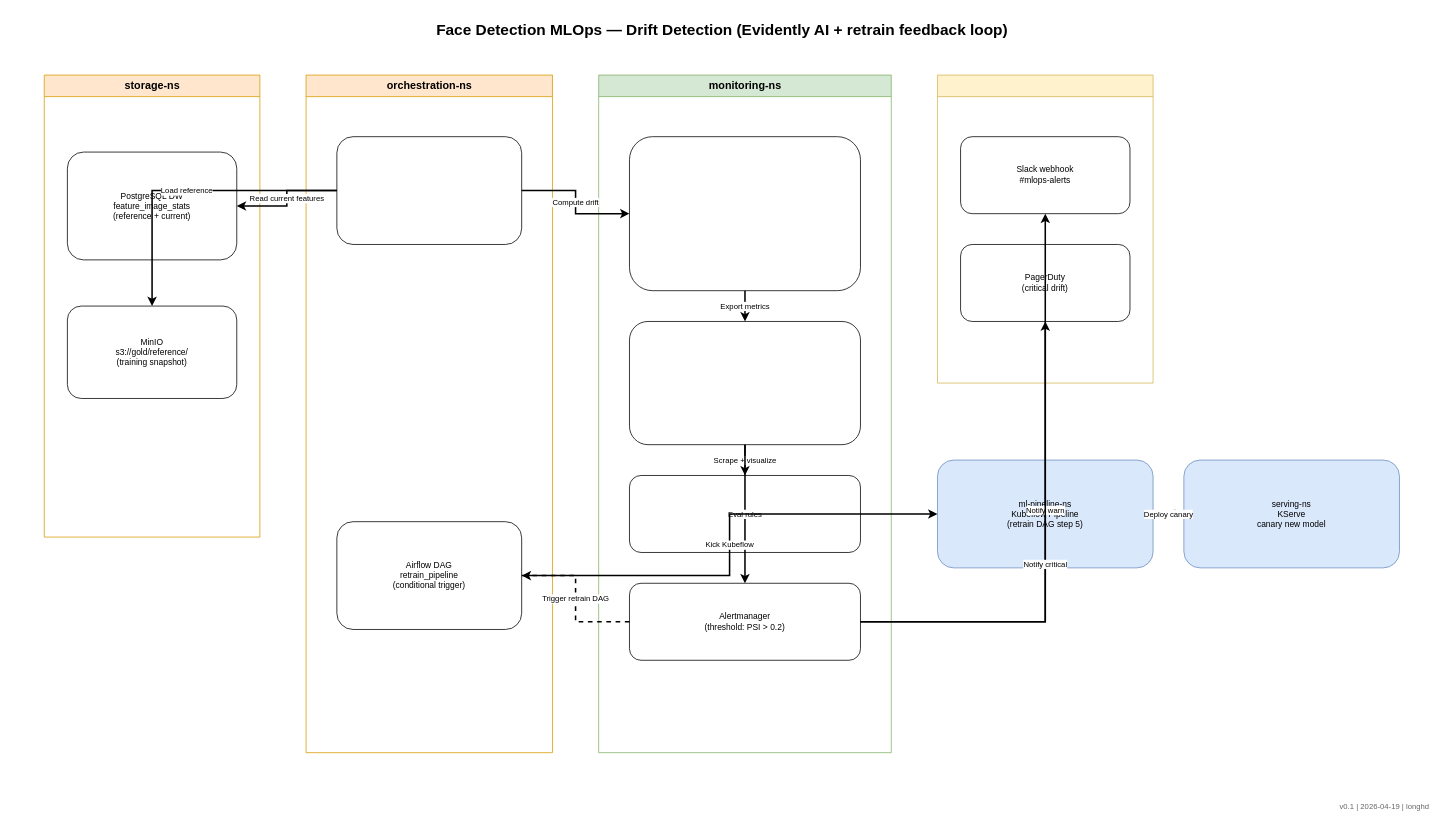
Image size: 1443x827. Some labels were removed from this diagram. Each missing label, with the box of its shape:
Airflow DAG drift_check_daily • schedule: 04:00 • KubernetesExecutor: (336, 136, 522, 244)
Evidently AI Drift calculator • PSI • KS-test • Wasserstein • Embeddings drift: (629, 136, 860, 291)
External: (937, 74, 1153, 383)
Grafana dashboard Drift time-series: (629, 475, 860, 552)
Prometheus metrics: drift_score{feature=..} drift_alert{severity=..}: (629, 321, 860, 445)
